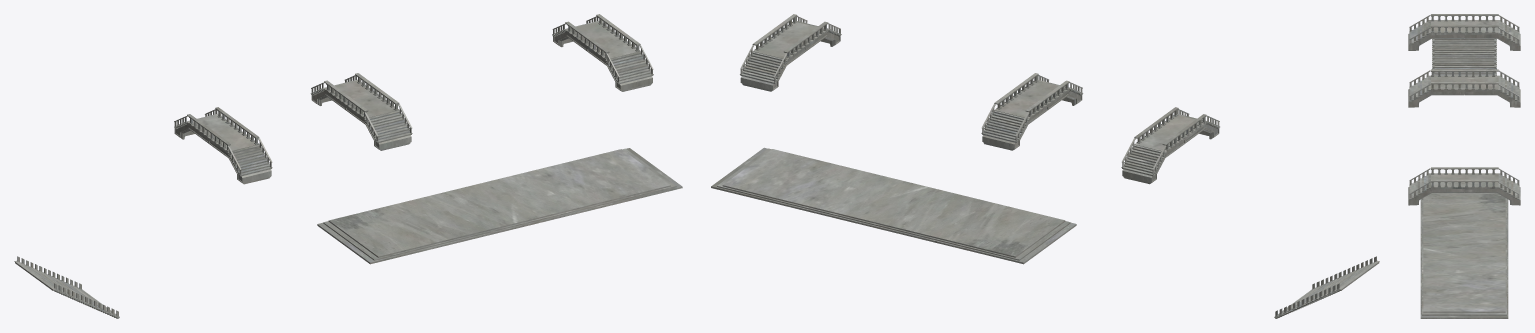
File: bridges-textured1.fbx
3 views of the same model, side by side, from view 1: azimuth 30°, elevation 25°; view 2: azimuth 150°, elevation 25°; view 3: azimuth 270°, elevation 25° (orthographic). The views are drawn at different scales.
Parts seen in each view (by area): view 1: BRIDGES; view 2: BRIDGES; view 3: BRIDGES.
Part boxes in pixels (box(x1,y1,x2,y2)): BRIDGES: box(14, 14, 682, 318); BRIDGES: box(711, 14, 1379, 318); BRIDGES: box(1408, 14, 1520, 318).
Size of the model in its own units: 8594 by 1959 by 1619.
